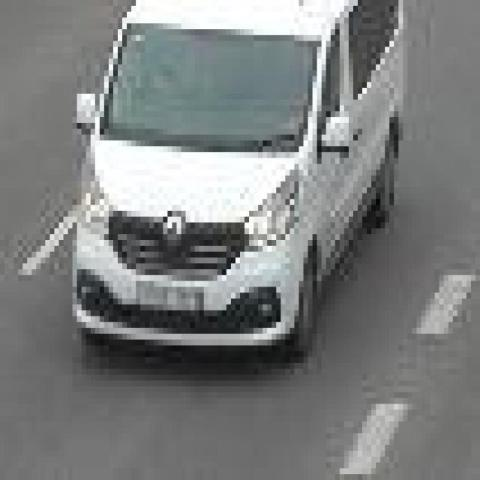van: (77, 0, 408, 369)
